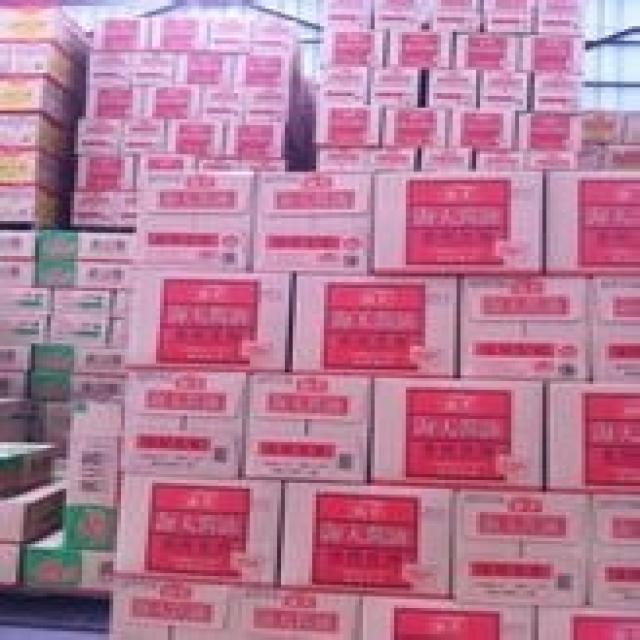box: (273, 483, 457, 599), (367, 375, 542, 492), (113, 474, 289, 585), (285, 273, 464, 378), (363, 172, 542, 273), (121, 265, 289, 367), (449, 489, 593, 608), (238, 367, 371, 486), (117, 364, 246, 477), (460, 276, 589, 384), (254, 172, 371, 271), (542, 381, 640, 495), (137, 175, 250, 271), (542, 172, 640, 273), (62, 401, 121, 556), (109, 573, 242, 640), (359, 596, 535, 640), (238, 582, 363, 640), (0, 0, 94, 67), (23, 524, 113, 593), (585, 273, 640, 384), (589, 492, 640, 608), (0, 457, 66, 544), (0, 41, 86, 99), (0, 227, 137, 262), (0, 81, 86, 128), (0, 113, 74, 163), (0, 262, 137, 288), (539, 605, 640, 640), (0, 151, 74, 198), (0, 439, 55, 497), (515, 111, 589, 154), (0, 183, 70, 227), (312, 105, 382, 148), (31, 369, 121, 401), (31, 343, 129, 372), (449, 108, 515, 151), (312, 64, 375, 108), (382, 105, 445, 148), (320, 26, 386, 67), (519, 32, 585, 73), (449, 32, 519, 70), (74, 154, 140, 192), (74, 192, 140, 230), (47, 314, 117, 349), (386, 29, 449, 67), (371, 64, 425, 108), (168, 119, 230, 157), (230, 52, 297, 87), (144, 15, 207, 52), (425, 67, 480, 108), (226, 122, 289, 157), (86, 17, 148, 52), (176, 52, 238, 87), (531, 70, 581, 113), (480, 70, 535, 108), (82, 84, 140, 119), (371, 0, 429, 35), (140, 87, 203, 119), (429, 0, 488, 32), (199, 84, 246, 122), (70, 119, 121, 154), (535, 0, 585, 35), (51, 288, 117, 314), (121, 119, 168, 154), (242, 87, 289, 122), (207, 17, 254, 52), (250, 17, 297, 52), (0, 314, 47, 349), (82, 55, 133, 87), (484, 0, 535, 32), (133, 52, 176, 87), (421, 145, 476, 172), (312, 145, 367, 172), (320, 0, 375, 26), (0, 288, 55, 314), (523, 148, 581, 169), (585, 111, 620, 143), (137, 154, 199, 172), (0, 544, 23, 591), (367, 148, 418, 169), (476, 151, 523, 172), (605, 145, 640, 172), (238, 157, 289, 175), (578, 143, 605, 172), (199, 157, 242, 172), (620, 111, 640, 143)
